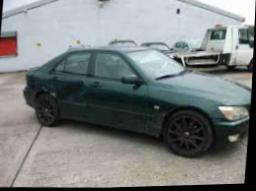Door: (57, 76, 90, 107)
